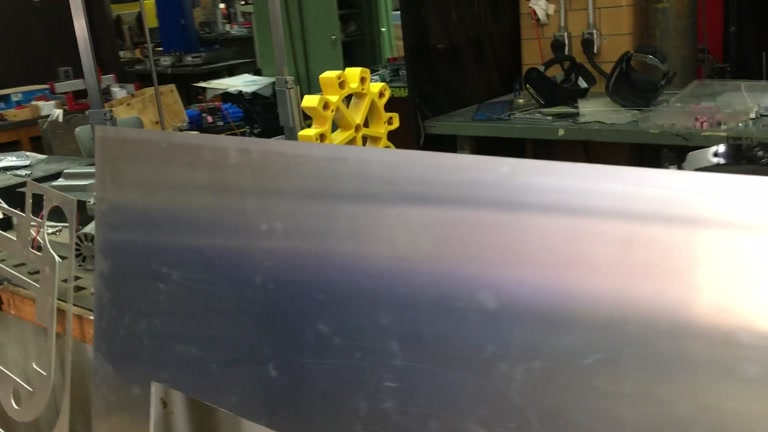gear: (294, 65, 401, 161)
